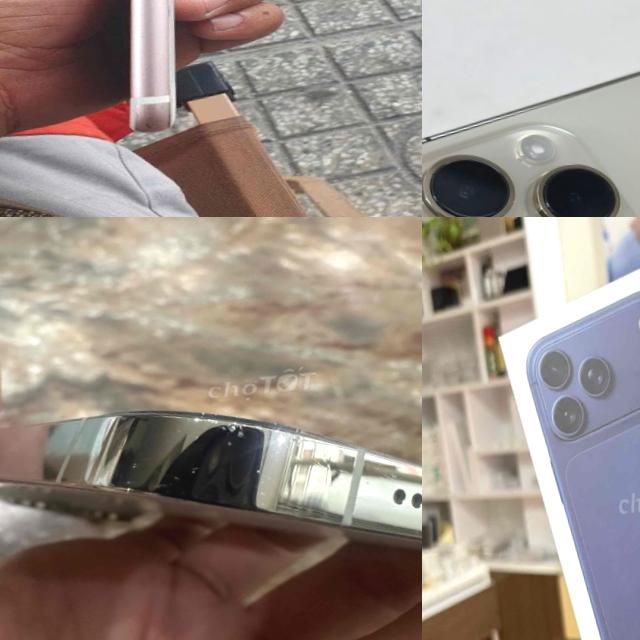gen_14: (0, 347, 422, 631), (422, 40, 640, 217)
gen_7_8: (92, 0, 209, 143)
scratch: (89, 400, 284, 519), (262, 416, 376, 534), (130, 11, 178, 77), (131, 82, 174, 134)
